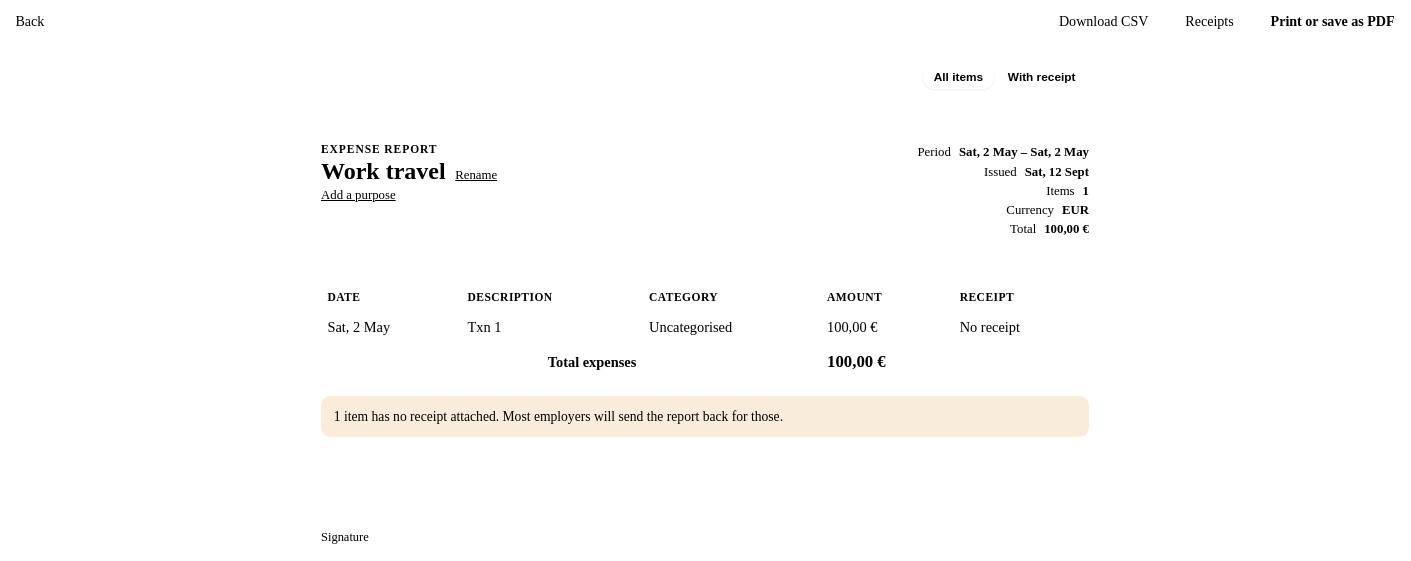
Test: ExpenseReportView — renaming the claim › renames the claim to something an employer can read, without the app open
This screenshot has width=1411, height=561.
Click the button "Rename": click(476, 175) x1=455 y1=168 x2=497 y2=183
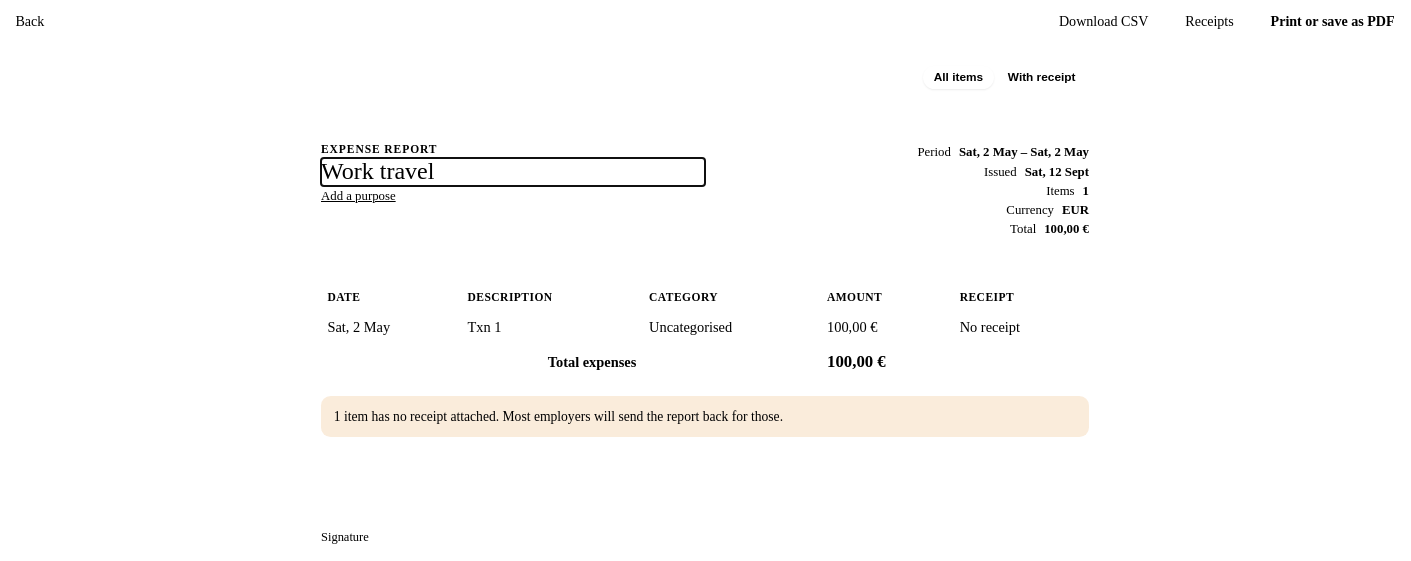
Replace the text in the field named "Report title" with "Alicante trip, August 2026": (513, 172) x1=321 y1=158 x2=705 y2=186
Then press Enter
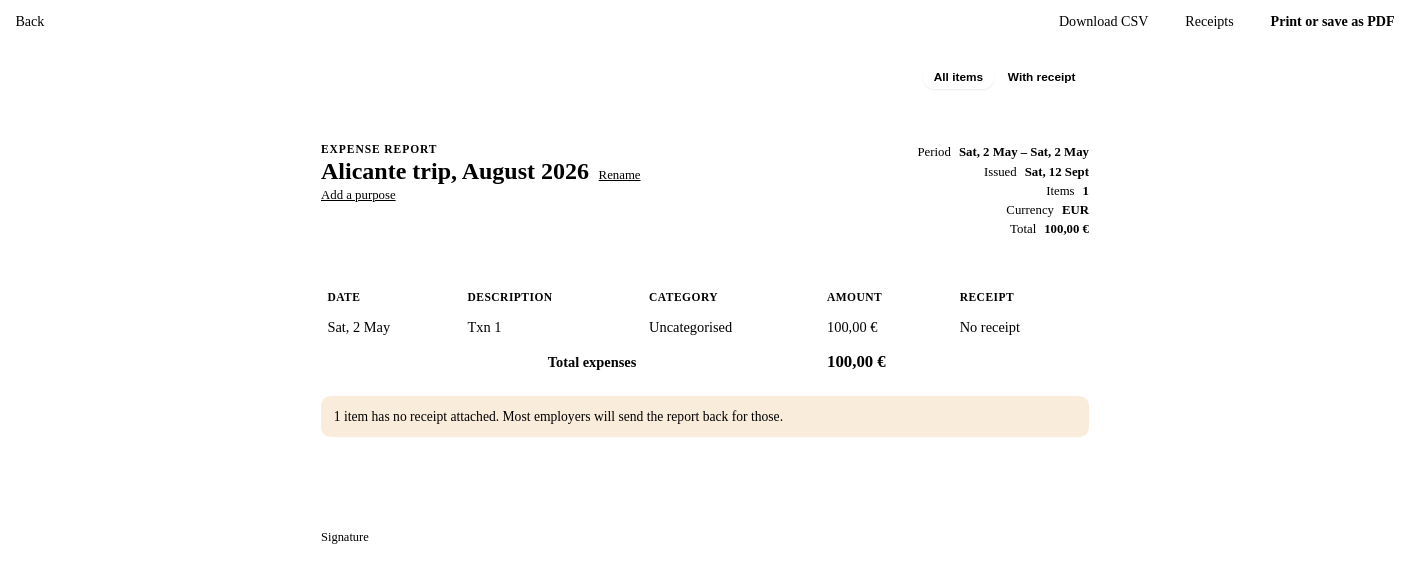
Expected: the heading "Alicante trip, August 2026" is shown, x1=321 y1=158 x2=589 y2=185
